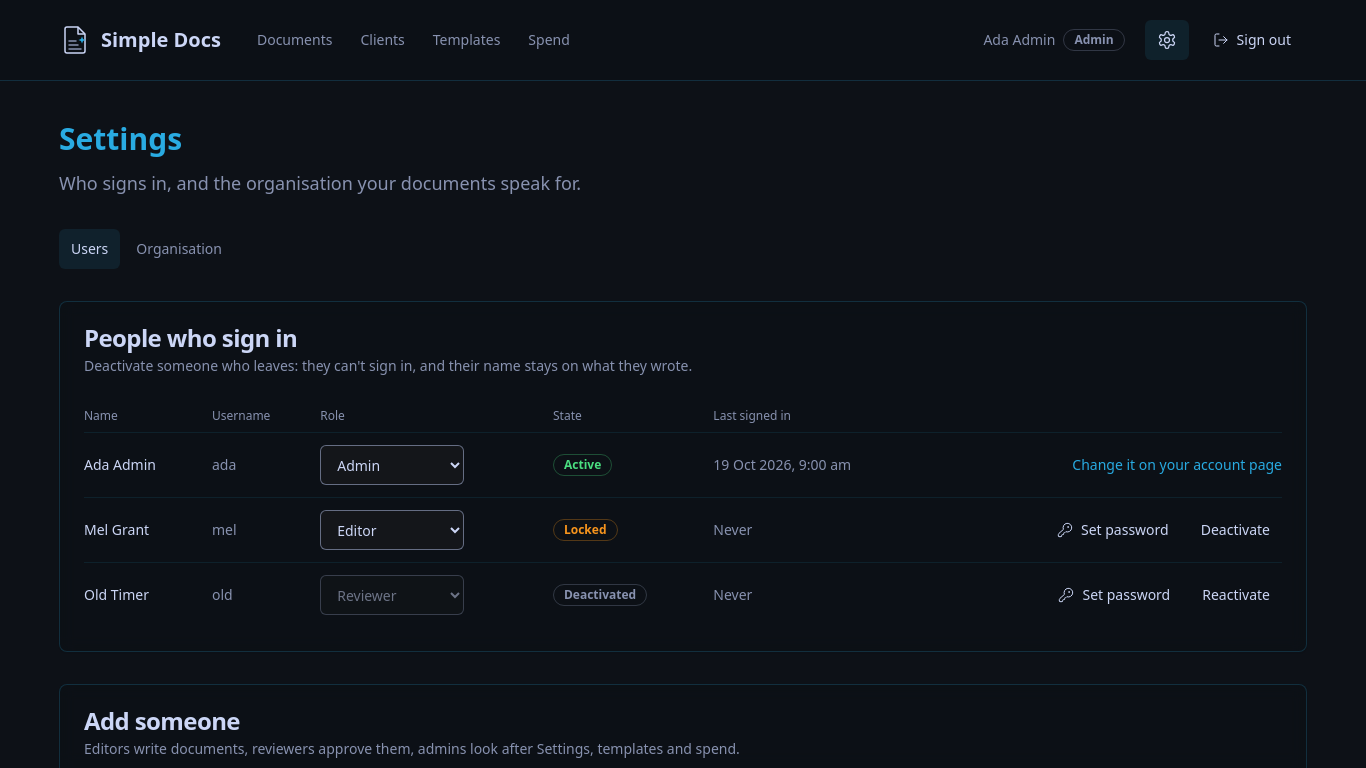
Test case: Settings → Users › changes someone's role
Select "Reviewer" in the dropdown named "Role for Mel Grant" at (392, 530), box top-left (320, 510), bottom-right (464, 550)
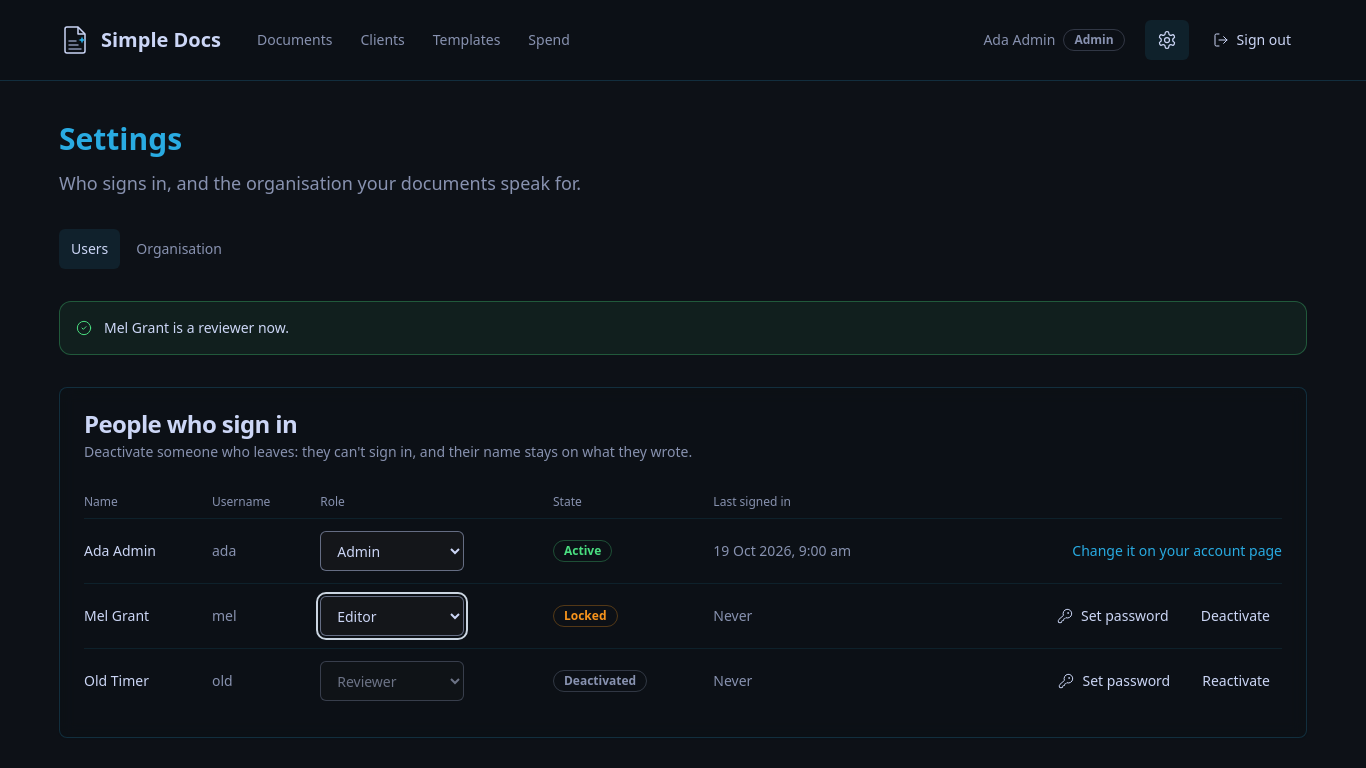
Check: the message reads "Mel Grant is a reviewer now.", box top-left (104, 318), bottom-right (289, 337)
